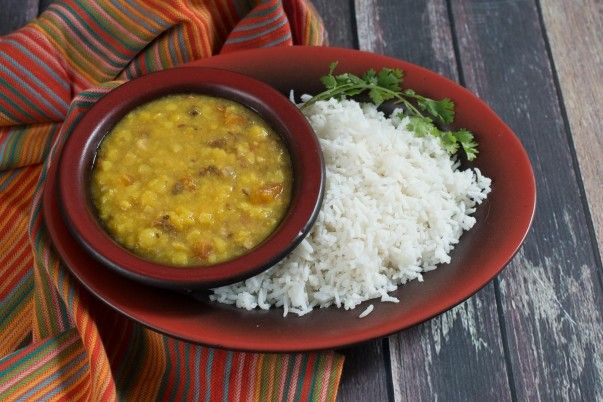bhat: (218, 95, 487, 306)
dal: (93, 93, 292, 267)
